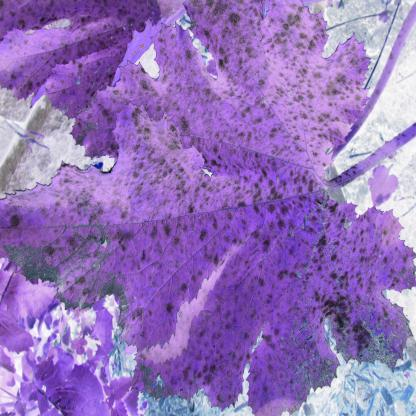squash powdery mildew leaf: (0, 98, 256, 353), (119, 195, 414, 416), (132, 0, 371, 215)
